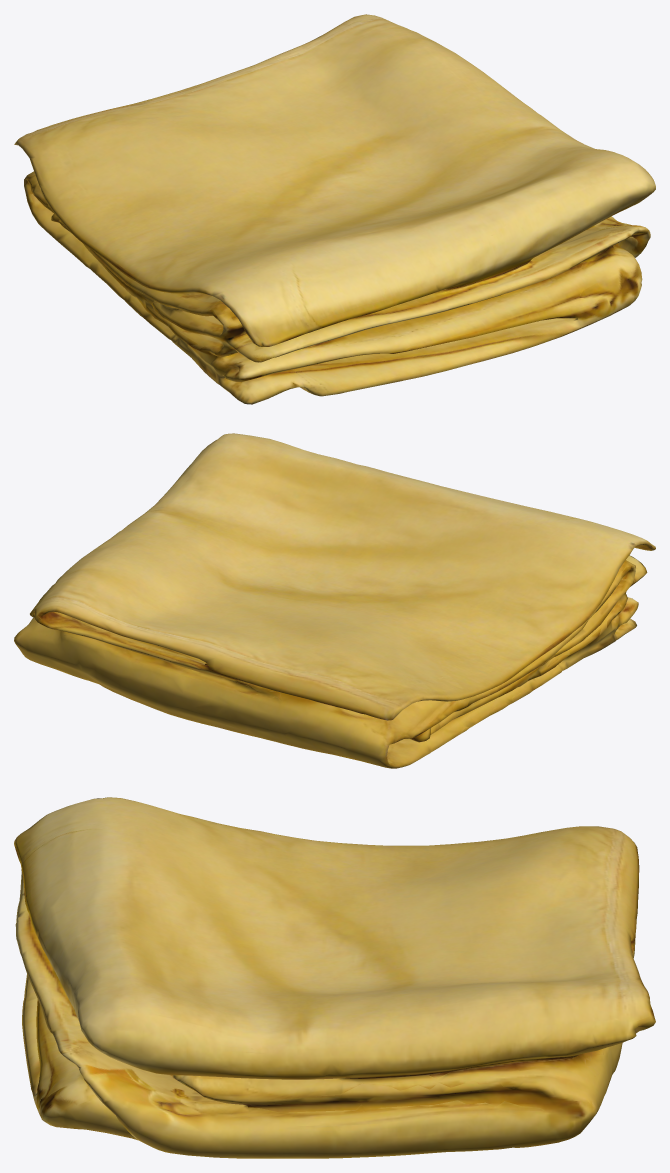
Rendered from single_folded_laundry_1108151044_refine.fbx.
3 views of the same model, one above another, from view 1: azimuth 30°, elevation 25°; view 2: azimuth 150°, elevation 25°; view 3: azimuth 270°, elevation 25° (orthographic). The views are drawn at different scales.
Parts seen in each view (by area): view 1: Mesh_0; view 2: Mesh_0; view 3: Mesh_0.
Part boxes in pixels (box(x1,y1,x2,y2)): Mesh_0: box(14, 14, 655, 404); Mesh_0: box(14, 433, 655, 768); Mesh_0: box(14, 797, 655, 1158).
Size of the model in its own units: 195 by 51.83 by 200.
1 material, 1 textured.
